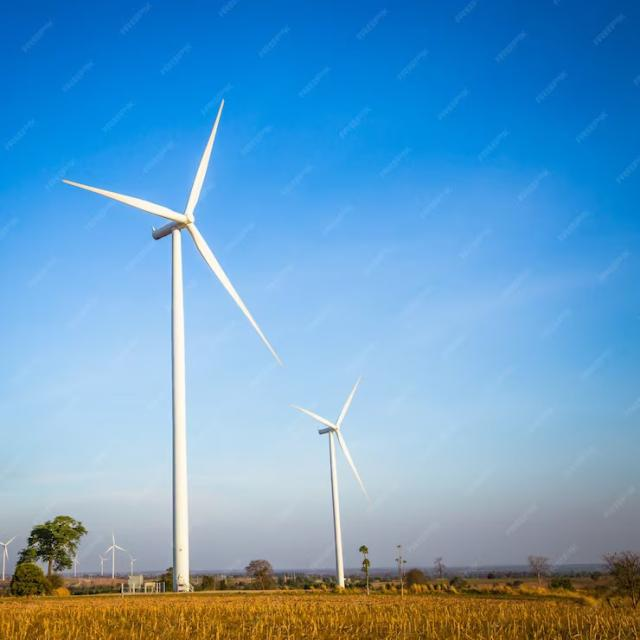solid-blade: (188, 225, 282, 366), (64, 181, 188, 223), (185, 100, 223, 216)
wind-turbine: (64, 101, 282, 592), (291, 376, 367, 588)
